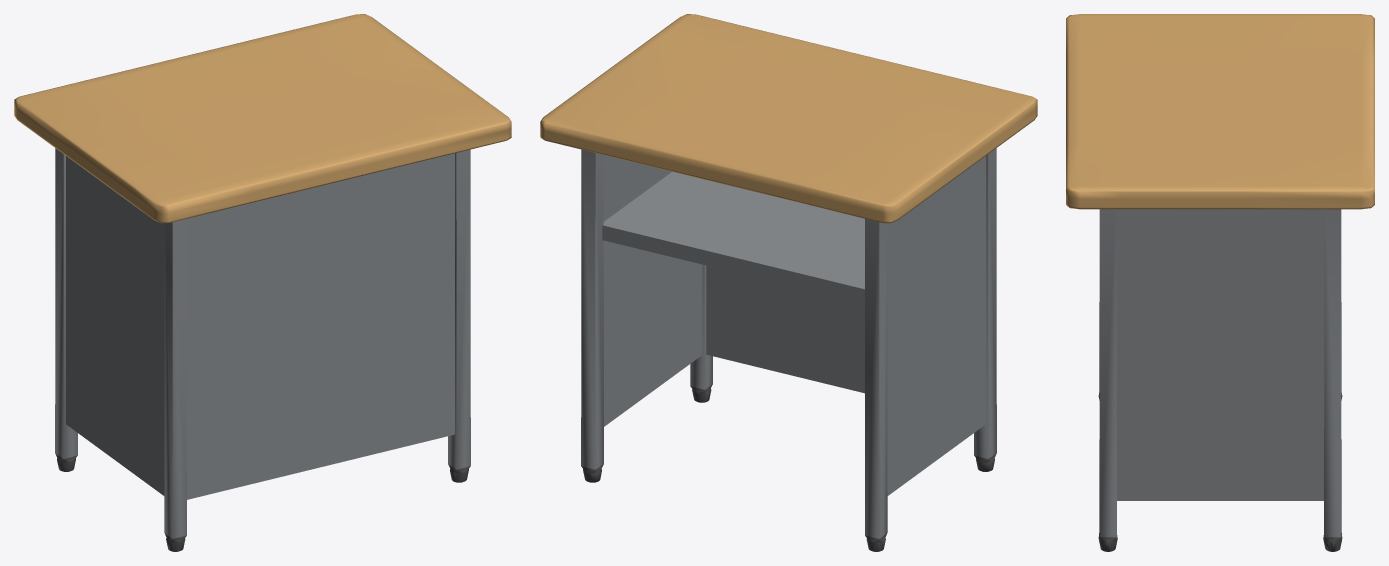
The model's file is teachingTable.obj.
3 views of the same model, side by side, from view 1: azimuth 30°, elevation 25°; view 2: azimuth 150°, elevation 25°; view 3: azimuth 270°, elevation 25° (orthographic). The views are drawn at different scales.
Parts seen in each view (by area): view 1: teachingTable.001_teachingTable.001_blinn1SG, teachingTable.001_teachingTable.001_blinn2SG, teachingTable.001_teachingTable.001_lambert2SG; view 2: teachingTable.001_teachingTable.001_blinn1SG, teachingTable.001_teachingTable.001_blinn2SG, teachingTable.001_teachingTable.001_lambert2SG; view 3: teachingTable.001_teachingTable.001_blinn1SG, teachingTable.001_teachingTable.001_blinn2SG, teachingTable.001_teachingTable.001_lambert2SG.
Part boxes in pixels (x1,y1,x2,y2): teachingTable.001_teachingTable.001_blinn1SG: (55,148,470,538); teachingTable.001_teachingTable.001_blinn2SG: (14,14,511,223); teachingTable.001_teachingTable.001_lambert2SG: (55,453,470,551); teachingTable.001_teachingTable.001_blinn1SG: (581,148,996,538); teachingTable.001_teachingTable.001_blinn2SG: (540,14,1037,223); teachingTable.001_teachingTable.001_lambert2SG: (581,384,996,551); teachingTable.001_teachingTable.001_blinn1SG: (1099,209,1341,537); teachingTable.001_teachingTable.001_blinn2SG: (1066,14,1374,209); teachingTable.001_teachingTable.001_lambert2SG: (1098,393,1342,551).
Size of the model in its own units: 0.698 by 0.69 by 0.5119.
